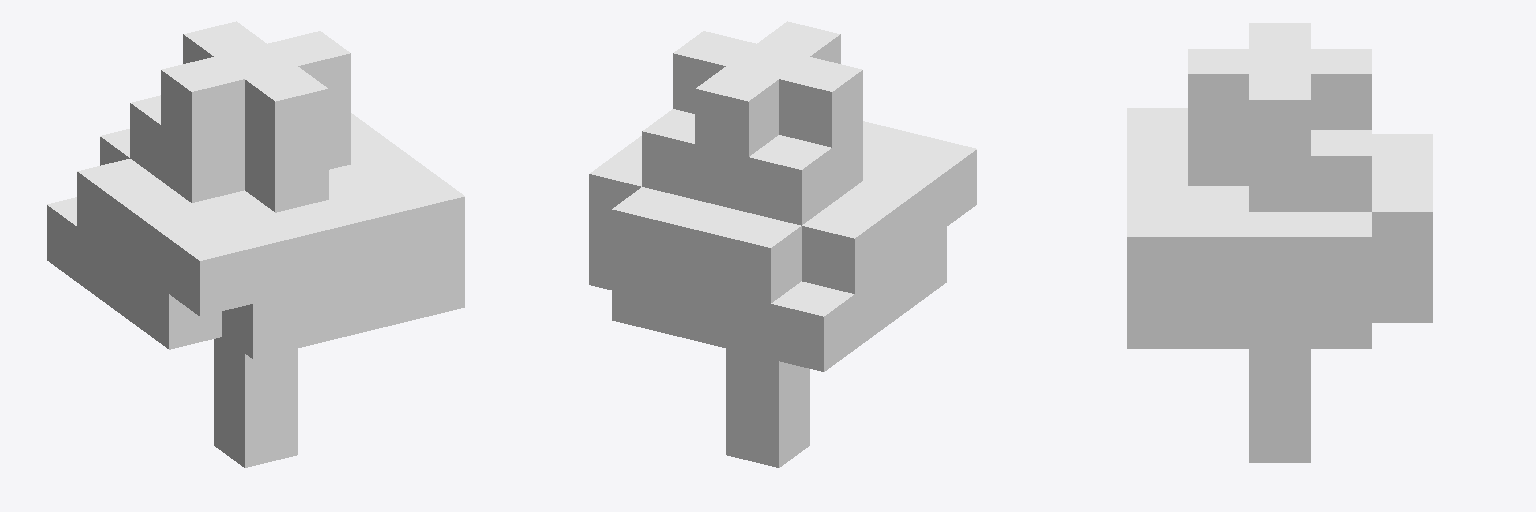
Rendered from Tree02.obj.
The picture shows the model from 3 angles: view 1: azimuth 30°, elevation 25°; view 2: azimuth 150°, elevation 25°; view 3: azimuth 270°, elevation 25°; orthographic projection.
Parts seen in each view (by area): view 1: RepoMap__29_-8_35_to_33_319_39; view 2: RepoMap__29_-8_35_to_33_319_39; view 3: RepoMap__29_-8_35_to_33_319_39.
Boxes of the visible parts, x1=… form: RepoMap__29_-8_35_to_33_319_39: x1=47, y1=21, x2=464, y2=467; RepoMap__29_-8_35_to_33_319_39: x1=589, y1=21, x2=976, y2=467; RepoMap__29_-8_35_to_33_319_39: x1=1127, y1=23, x2=1432, y2=462.
Bounding box in the file's own units: 5 × 7 × 5.